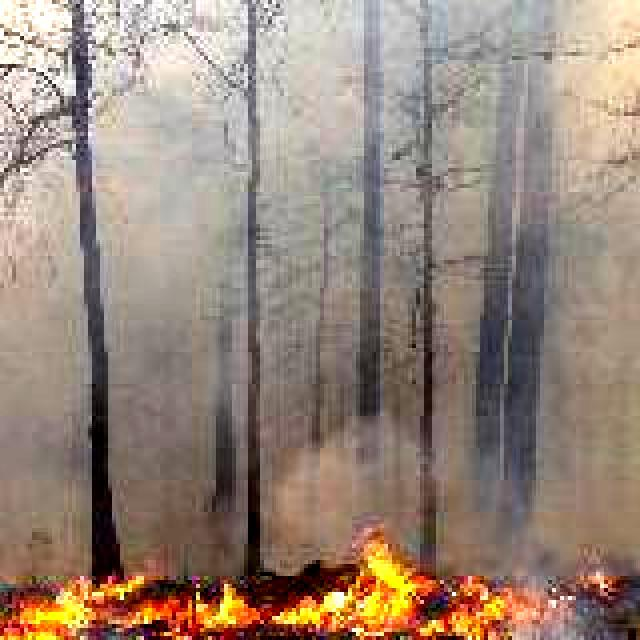smoke: (0, 0, 640, 532), (516, 596, 632, 640)
